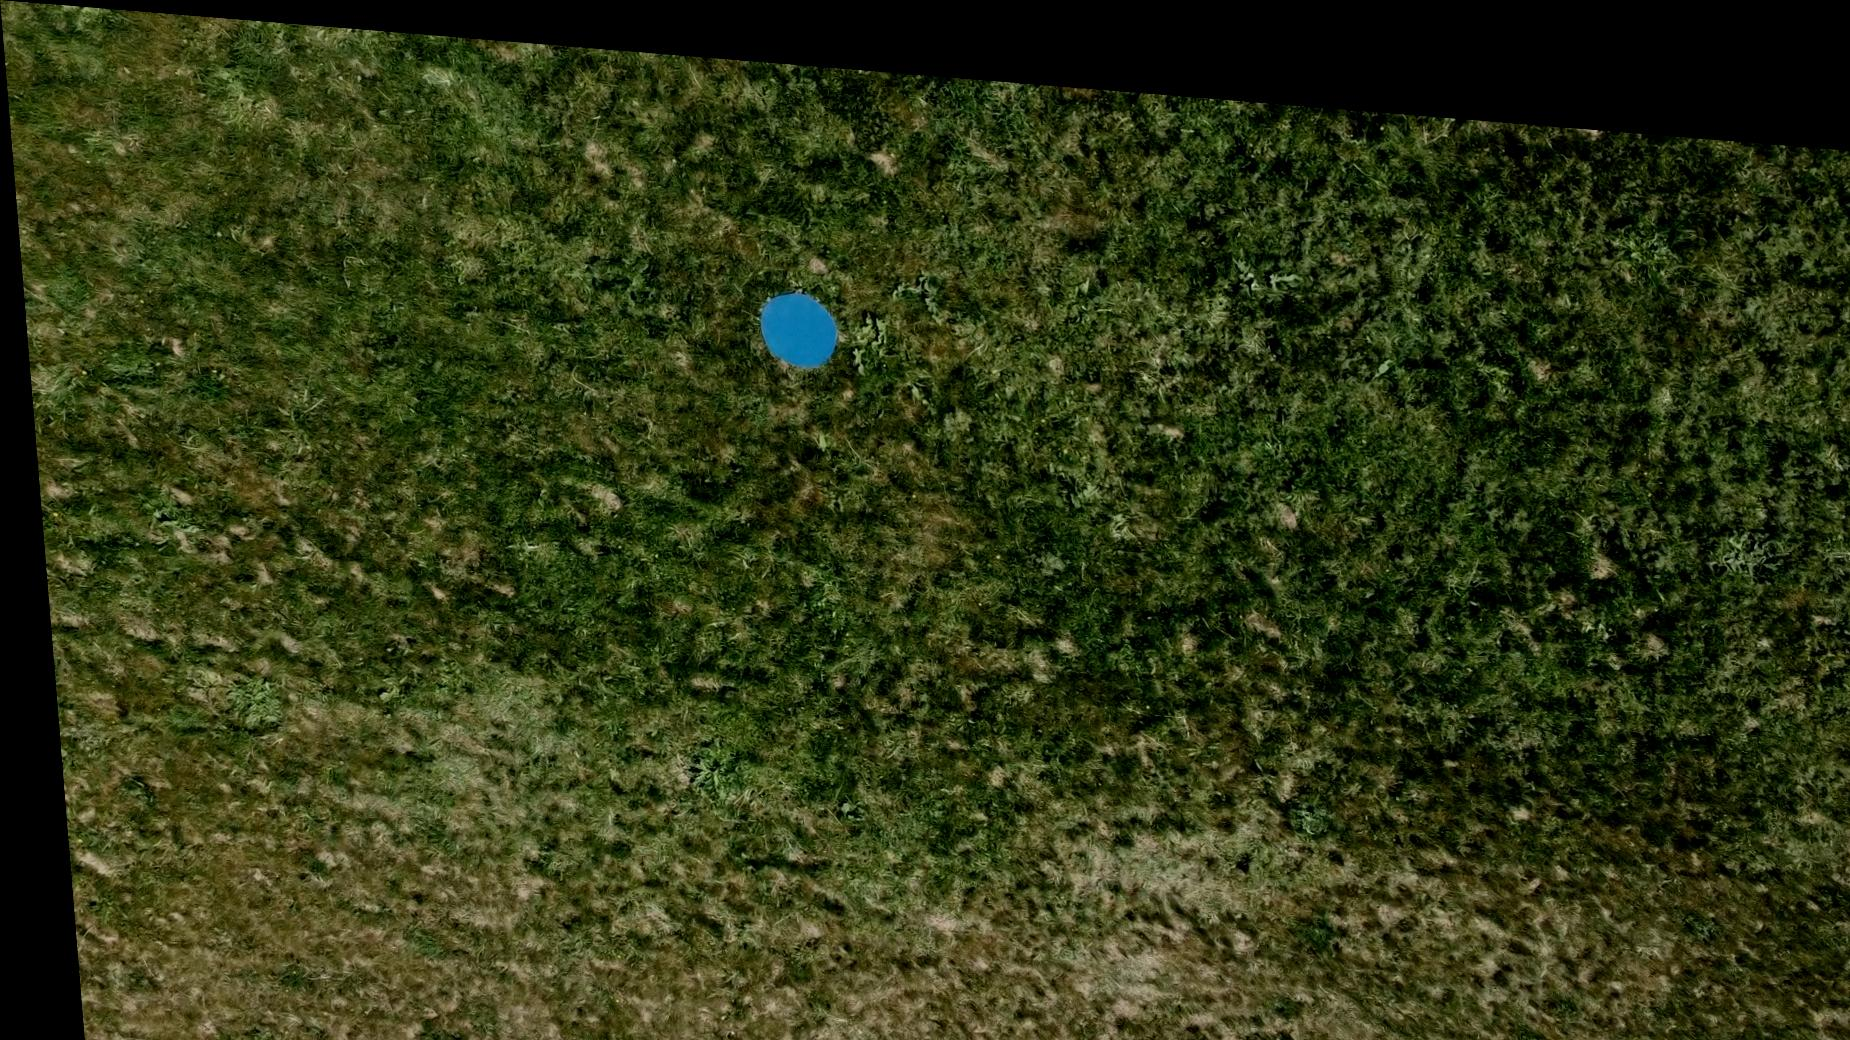Blue: (752, 276, 837, 359)
